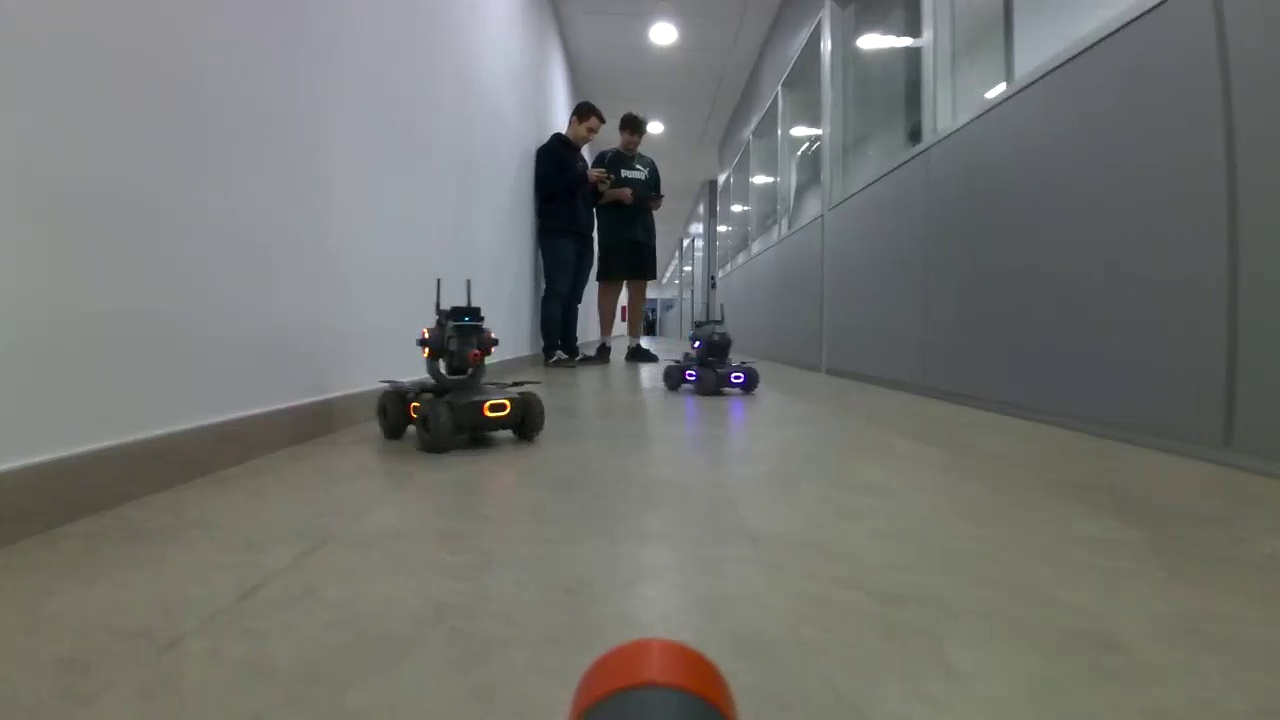robot: (376, 305, 549, 453), (662, 320, 760, 397)
